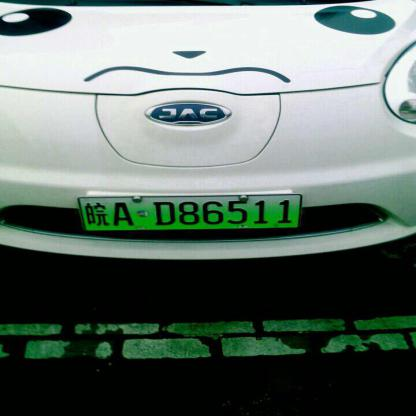lp: (80, 195, 299, 230)
